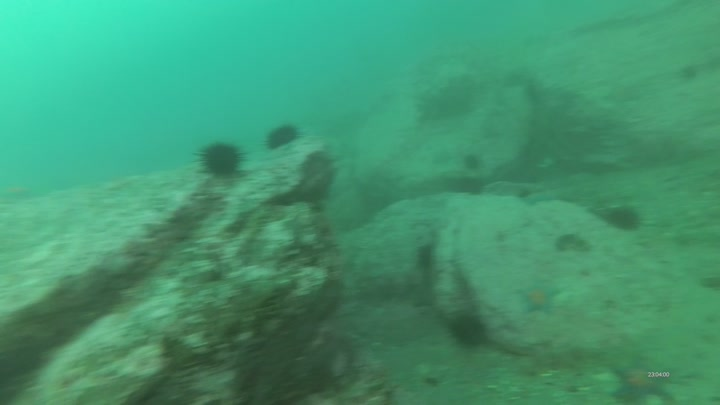echinus: (192, 142, 251, 179), (446, 313, 492, 351), (263, 124, 305, 152), (603, 206, 643, 233), (416, 244, 434, 271), (464, 154, 482, 172)
starfish: (609, 356, 680, 405), (515, 277, 564, 316)
